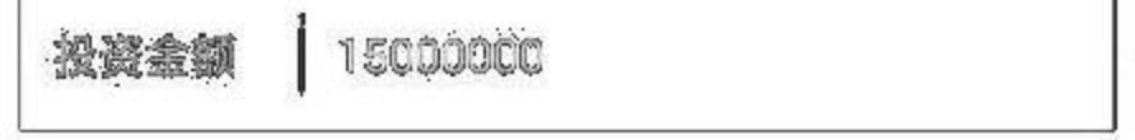EditText: (1, 1, 1134, 139)
